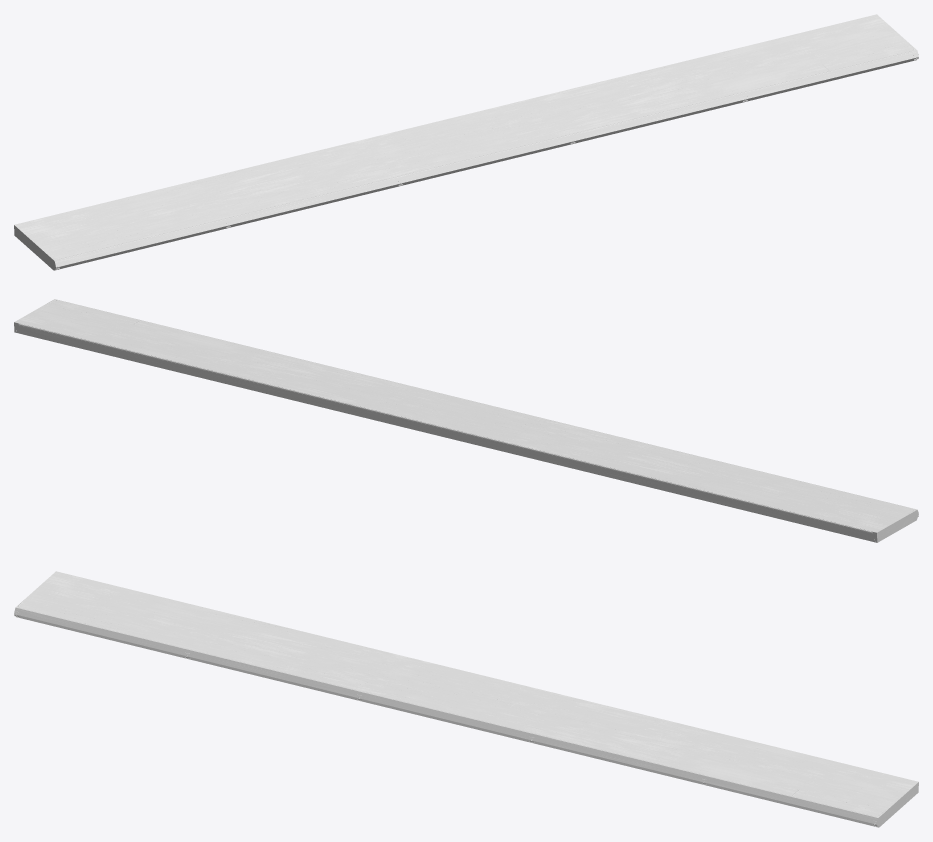
Rendered from si_helipad_grid.DAE.
The picture shows the model from 3 angles, top to bottom: view 1: azimuth 30°, elevation 25°; view 2: azimuth 150°, elevation 25°; view 3: azimuth 330°, elevation 25°; orthographic projection.
Parts seen in each view (by area): view 1: Colmesh-1, si_helipad_grid1000; view 2: Colmesh-1, si_helipad_grid900, si_helipad_grid1000; view 3: Colmesh-1, si_helipad_grid1000.
Part boxes in pixels (x1,y1,x2,y2): Colmesh-1: (14,14,918,270); si_helipad_grid1000: (47,43,918,269); Colmesh-1: (14,299,918,542); si_helipad_grid900: (18,323,872,533); si_helipad_grid1000: (16,300,918,541); Colmesh-1: (14,571,918,827); si_helipad_grid1000: (14,600,885,826).
Bounding box in the file's own units: 2505 × 213 × 46.33.
